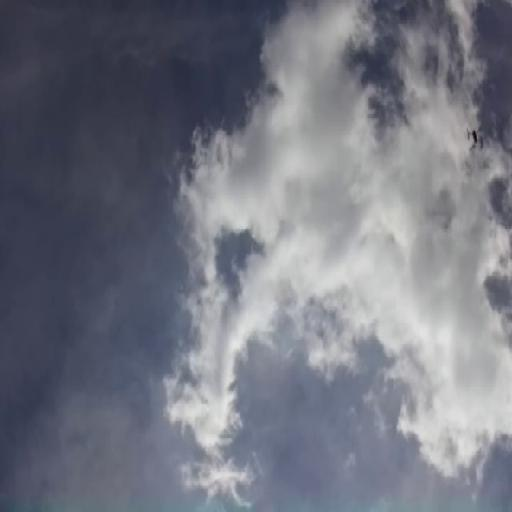drones: (464, 119, 488, 158)
